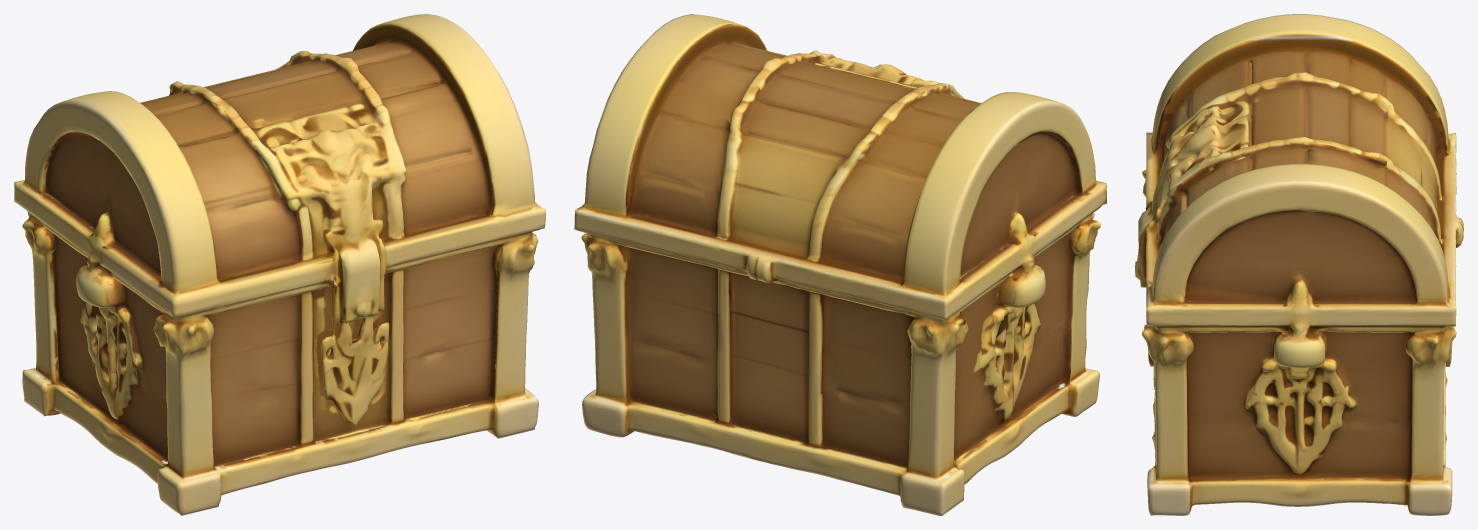
The model's file is treasure-chest.glb.
3 renders of one model, left to right at view 1: azimuth 30°, elevation 25°; view 2: azimuth 150°, elevation 25°; view 3: azimuth 270°, elevation 25°, orthographic. The views are drawn at different scales.
Visible parts, largest first — view 1: model; view 2: model; view 3: model.
Part boxes in pixels (bbox=[...]): model: bbox=[14, 14, 545, 515]; model: bbox=[574, 14, 1106, 515]; model: bbox=[1135, 14, 1463, 515].
Size of the model in its own units: 1.87 by 1.56 by 1.38.
1 material, 1 textured.
